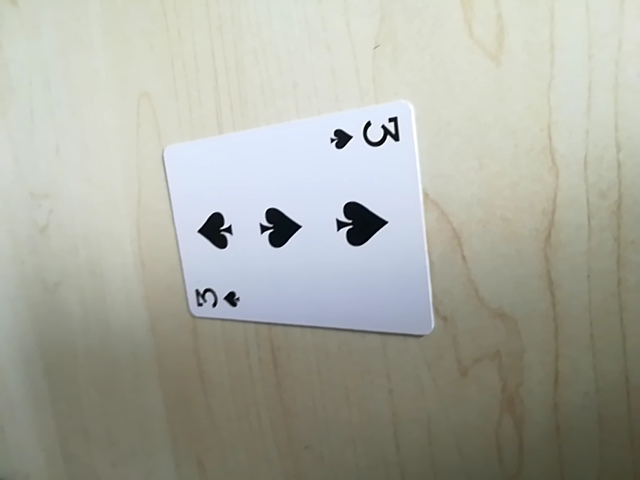ht 3: (329, 111, 405, 157), (188, 279, 247, 318)
